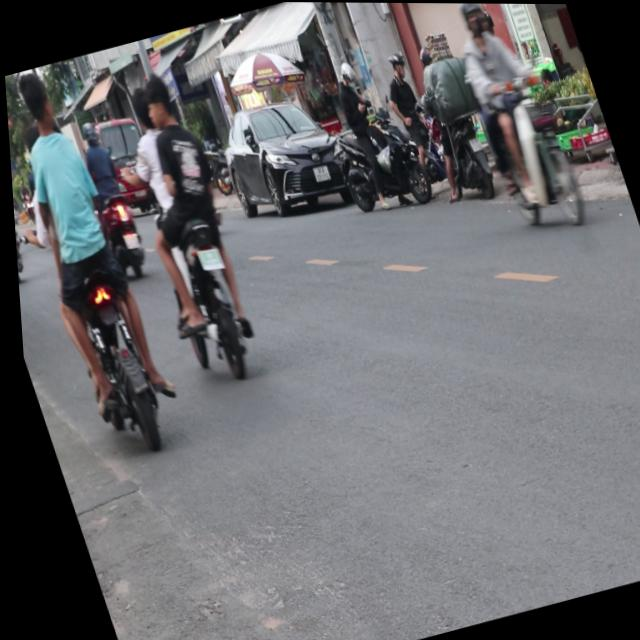helmet: (454, 3, 493, 39), (77, 118, 98, 145)
licenseplate: (3, 58, 185, 461), (93, 62, 274, 387), (436, 3, 598, 242), (66, 114, 151, 280)
motorcyclist: (11, 65, 62, 137), (133, 67, 179, 128), (123, 79, 157, 131)
nohelmet: (193, 243, 220, 270)
